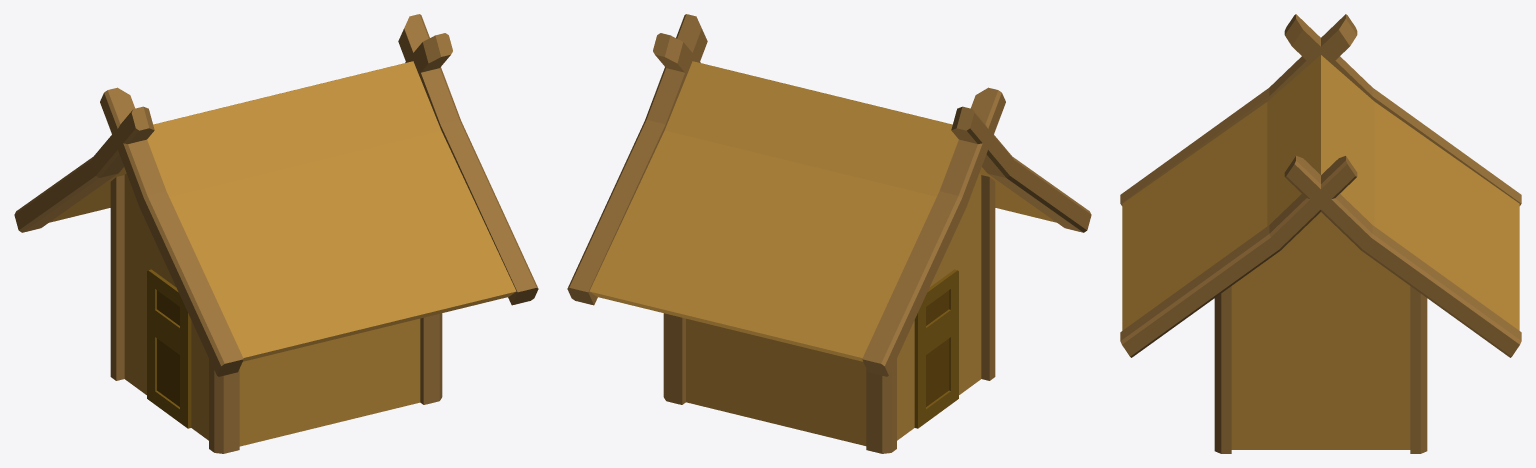
Rendered from Cabane.fbx.
3 renders of one model, left to right at view 1: azimuth 30°, elevation 25°; view 2: azimuth 150°, elevation 25°; view 3: azimuth 270°, elevation 25°, orthographic. The views are drawn at different scales.
Visible parts, largest first — view 1: Cabane_LOD0; view 2: Cabane_LOD0; view 3: Cabane_LOD0.
Part boxes in pixels (left/top/right/bottom): Cabane_LOD0: left=14, top=14, right=538, bottom=453; Cabane_LOD0: left=567, top=14, right=1091, bottom=453; Cabane_LOD0: left=1120, top=14, right=1521, bottom=453.
Bounding box in the file's own units: 300 × 295 × 342.
